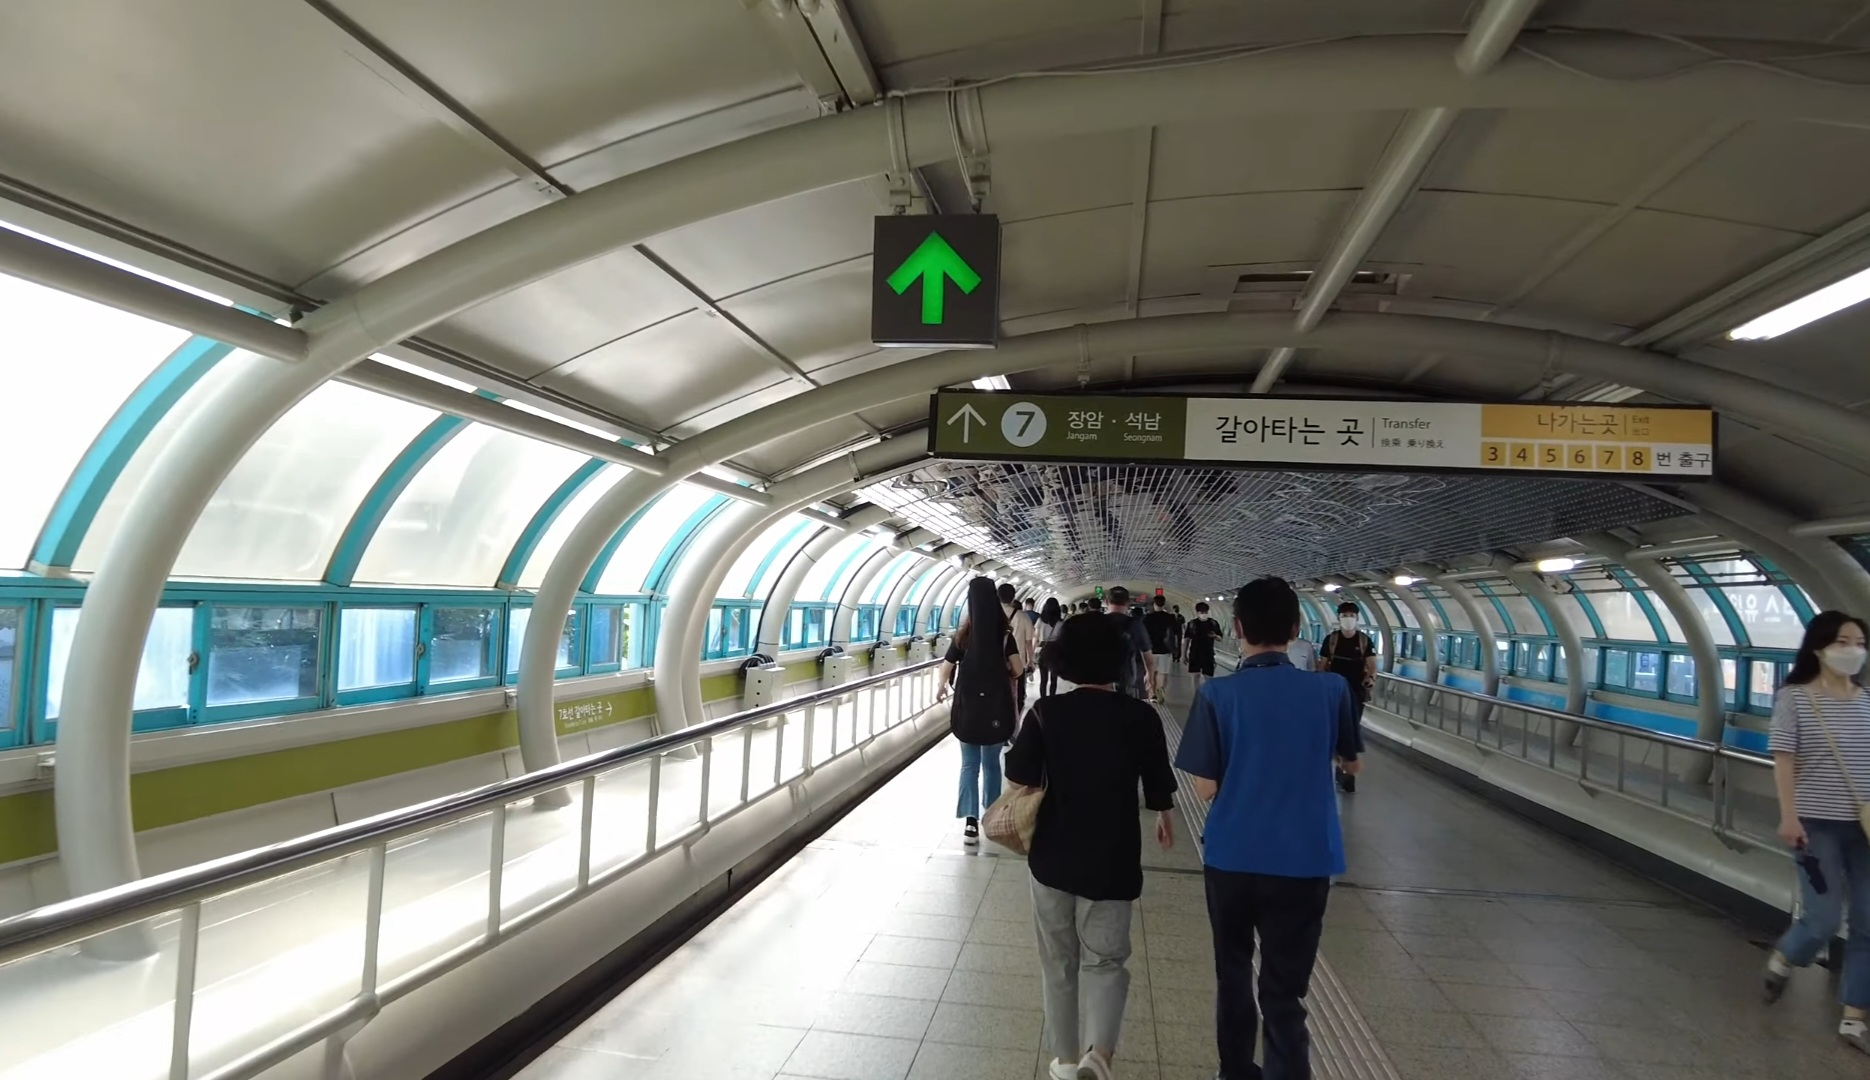signBoard: (913, 381, 1738, 489)
